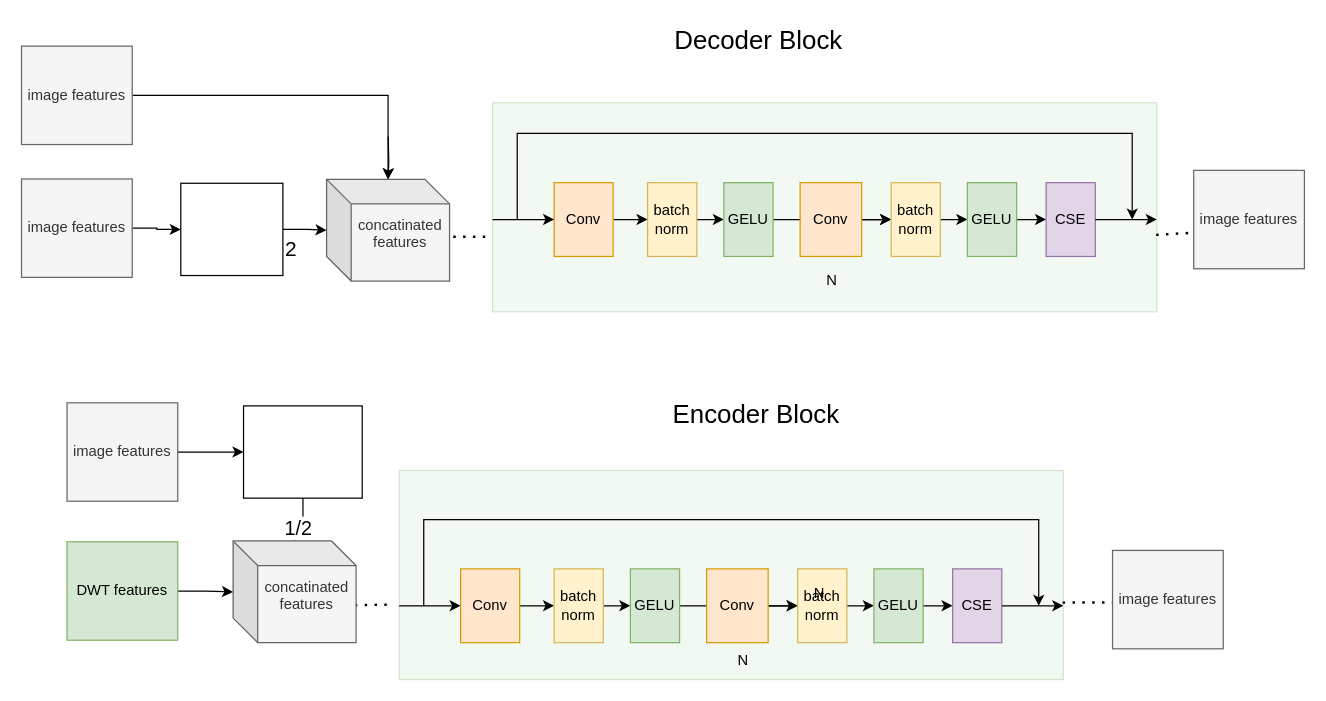
The diagram is 1326 pixels wide and 701 high, and some of its shapes have lost their labels. The shapes that lost their labels are listed below. From the top down, each one's centre as x and y in pixels, then its label:
At (x=231, y=229): "Upsampled".
At (x=302, y=451): "Downsample".
